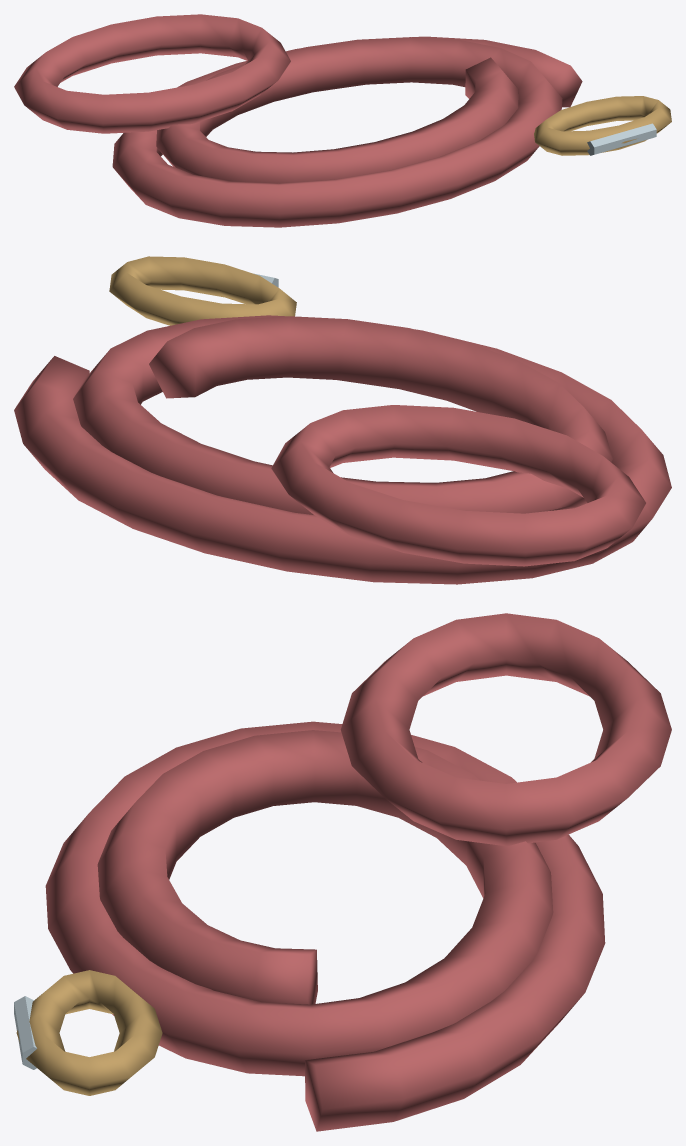
The model's file is leash.glb.
3 renders of one model, top to bottom at view 1: azimuth 30°, elevation 25°; view 2: azimuth 150°, elevation 25°; view 3: azimuth 270°, elevation 25°, orthographic. The views are drawn at different scales.
Parts seen in each view (by area): view 1: Coiled red leather leash, Looped handle, Brass clip, Clip latch; view 2: Coiled red leather leash, Looped handle, Brass clip; view 3: Coiled red leather leash, Looped handle, Brass clip, Clip latch.
Boxes of the visible parts, left/top/right/bottom form: Coiled red leather leash: left=112, top=36, right=582, bottom=227; Looped handle: left=14, top=14, right=290, bottom=133; Brass clip: left=534, top=96, right=671, bottom=155; Clip latch: left=587, top=123, right=656, bottom=155; Coiled red leather leash: left=14, top=315, right=671, bottom=584; Looped handle: left=271, top=405, right=645, bottom=566; Brass clip: left=109, top=256, right=296, bottom=325; Coiled red leather leash: left=45, top=721, right=605, bottom=1131; Looped handle: left=340, top=613, right=671, bottom=846; Brass clip: left=16, top=970, right=162, bottom=1095; Clip latch: left=14, top=996, right=36, bottom=1069.
Size of the model in its own units: 0.221 by 0.0396 by 0.1531.
